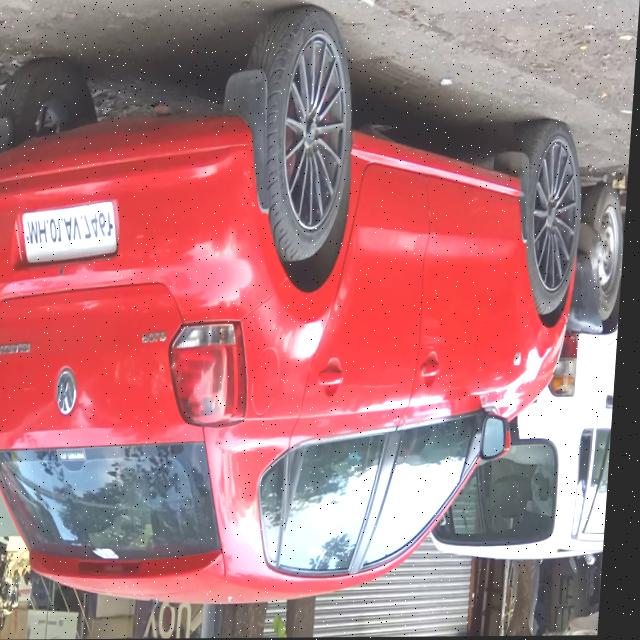plate: (24, 197, 123, 265)
